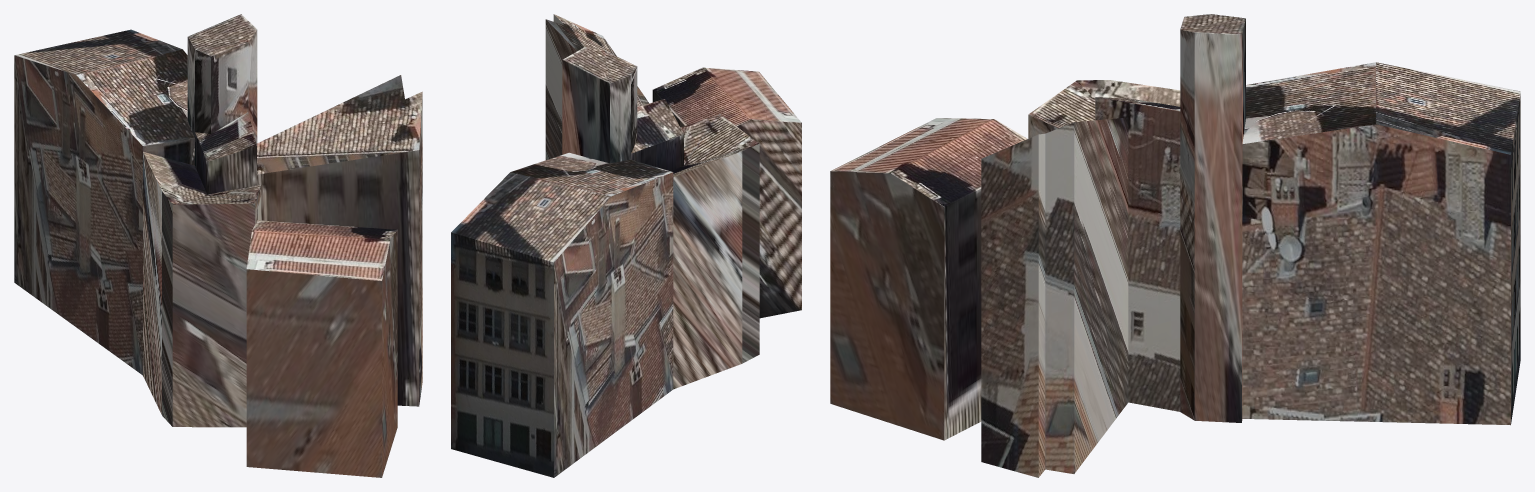
3 renders of one model, left to right at view 1: azimuth 30°, elevation 25°; view 2: azimuth 150°, elevation 25°; view 3: azimuth 270°, elevation 25°, orthographic. The views are drawn at different scales.
Parts seen in each view (by area): view 1: Z_UP; view 2: Z_UP; view 3: Z_UP.
Boxes of the visible parts, x1,y1,x2,y2 form: Z_UP: (14,14,422,477); Z_UP: (451,14,801,477); Z_UP: (830,14,1520,477).
Bounding box in the file's own units: 15.18 × 20.4 × 32.88.
2 materials, 1 textured.
